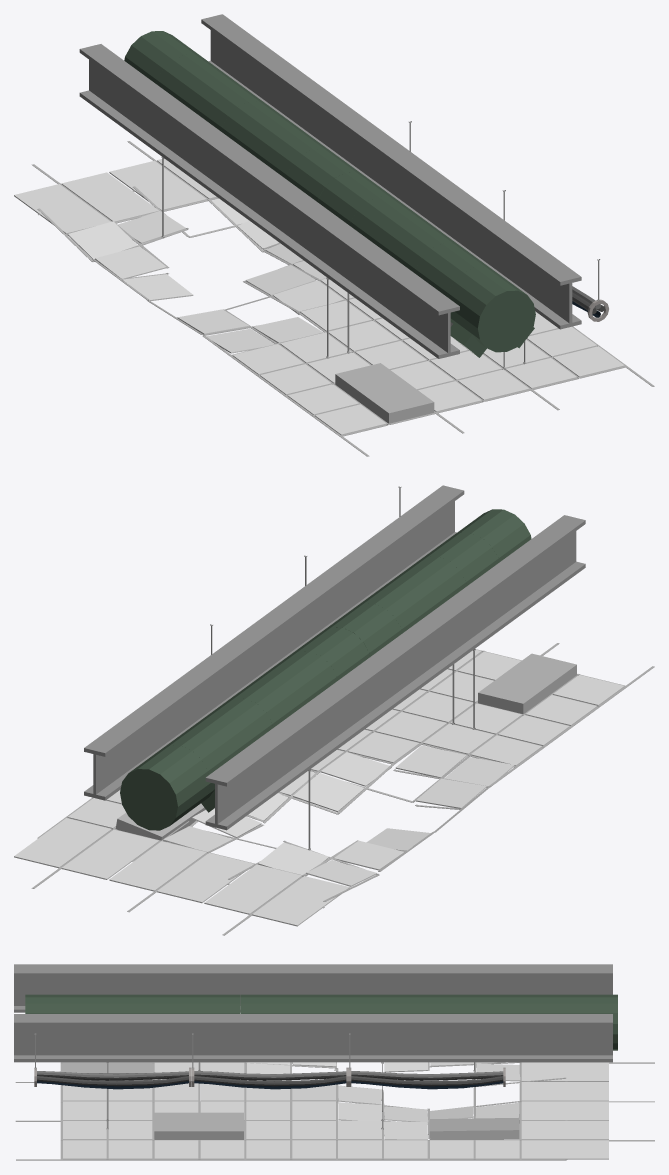
The model's file is shortHallwayPartiallyDestroyedVariantA.fbx.
The picture shows the model from 3 angles, top to bottom: view 1: azimuth 30°, elevation 25°; view 2: azimuth 150°, elevation 25°; view 3: azimuth 270°, elevation 25°; orthographic projection. The views are drawn at different scales.
Visible parts, largest first — view 1: Plane.274; view 2: Plane.274; view 3: Plane.274.
Boxes of the visible parts, x1=… form: Plane.274: x1=14, y1=14, x2=654, y2=456; Plane.274: x1=14, y1=485, x2=654, y2=935; Plane.274: x1=14, y1=964, x2=654, y2=1160.
Bounding box in the file's own units: 1274 × 597 × 2934.
